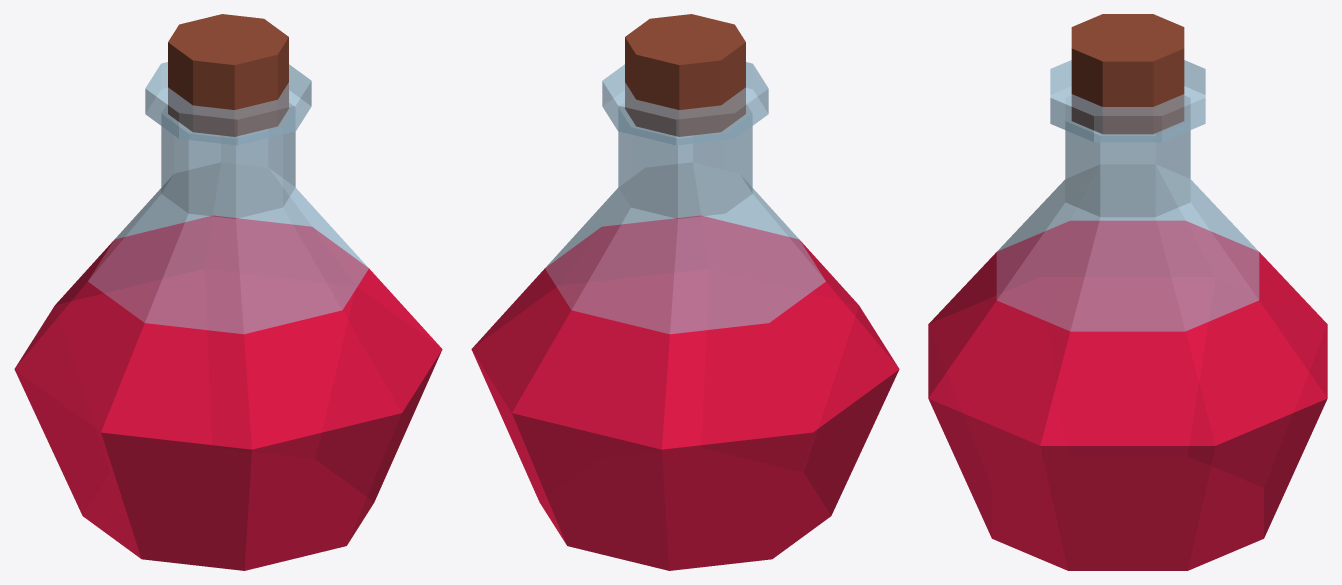
File: HealthPotion.fbx
3 renders of one model, left to right at view 1: azimuth 30°, elevation 25°; view 2: azimuth 150°, elevation 25°; view 3: azimuth 270°, elevation 25°, orthographic.
Parts seen in each view (by area): view 1: Cube; view 2: Cube; view 3: Cube.
Boxes of the visible parts, x1,y1,x2,y2 form: Cube: (14, 14, 442, 570); Cube: (471, 14, 899, 570); Cube: (928, 14, 1327, 570).
Bounding box in the file's own units: 151 × 199 × 151.
